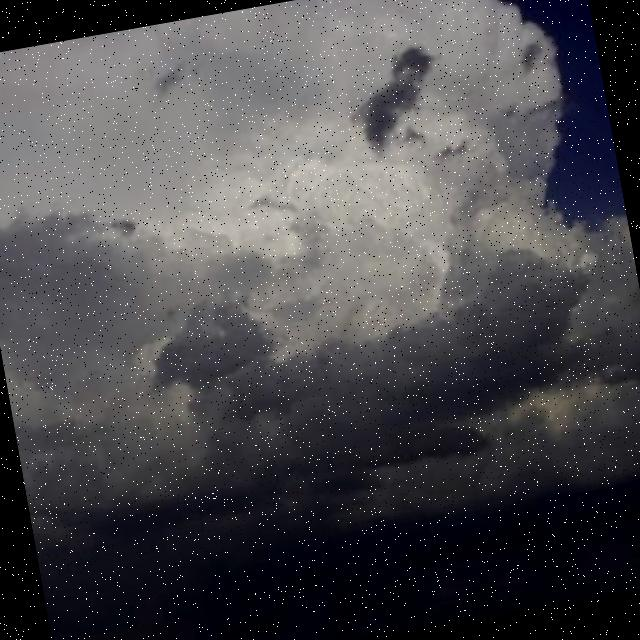Cb: (1, 1, 640, 550)
